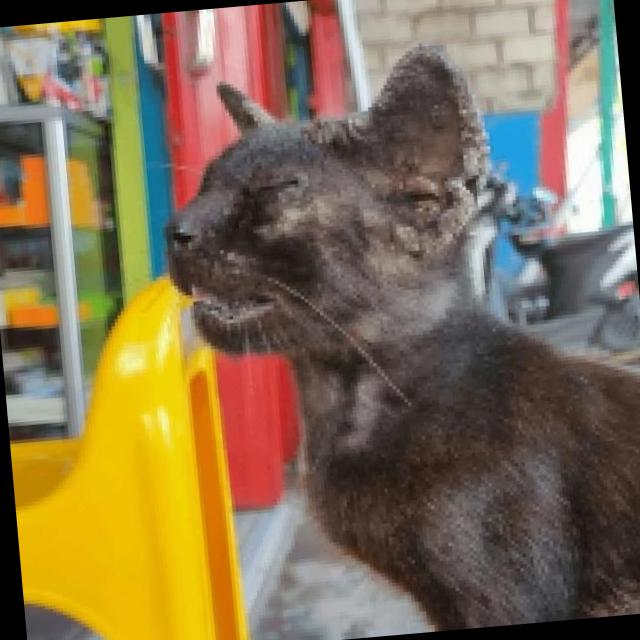Mange: (389, 154, 506, 262)
